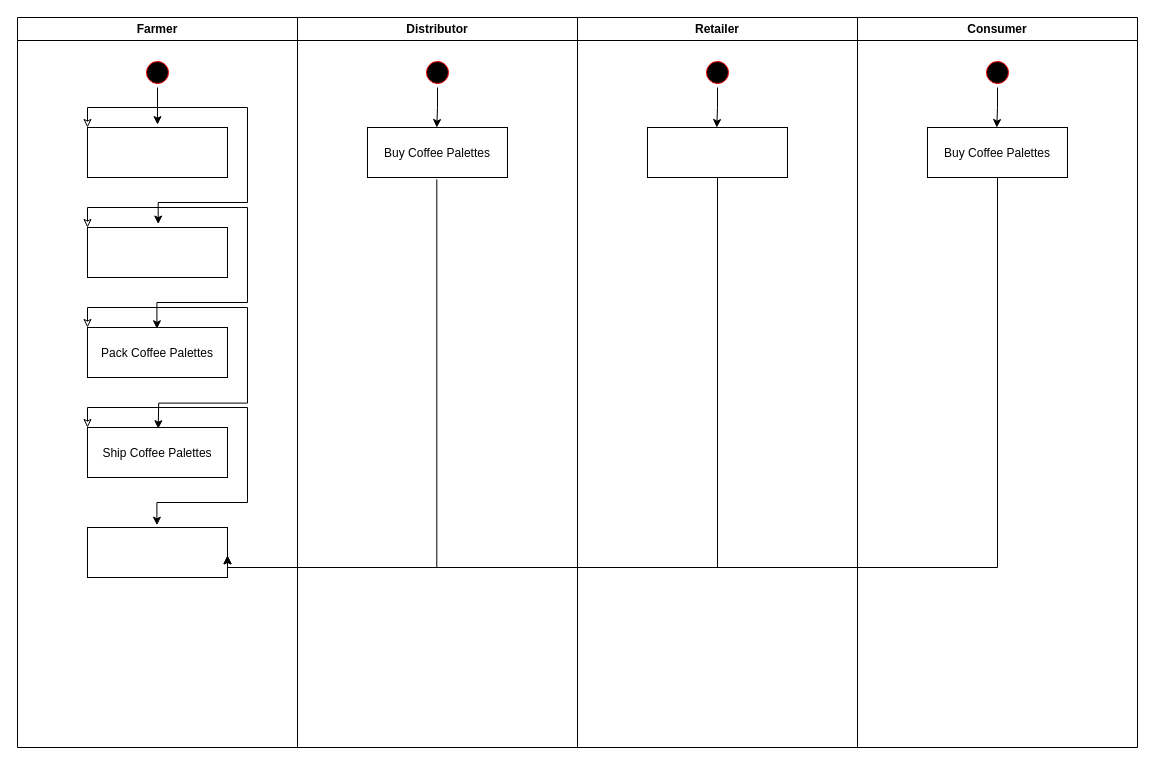
Some shapes in this 1155 by 765 pixel diagram are drawn without their labels. Each missing label, with the centre of its shape:
"Harvest Coffee Beans" goes at (157,152).
"Process Coffee Beans" goes at (157,252).
"Receive Coffee Palettes" goes at (717,152).
"Track Authenticity" goes at (157,552).
